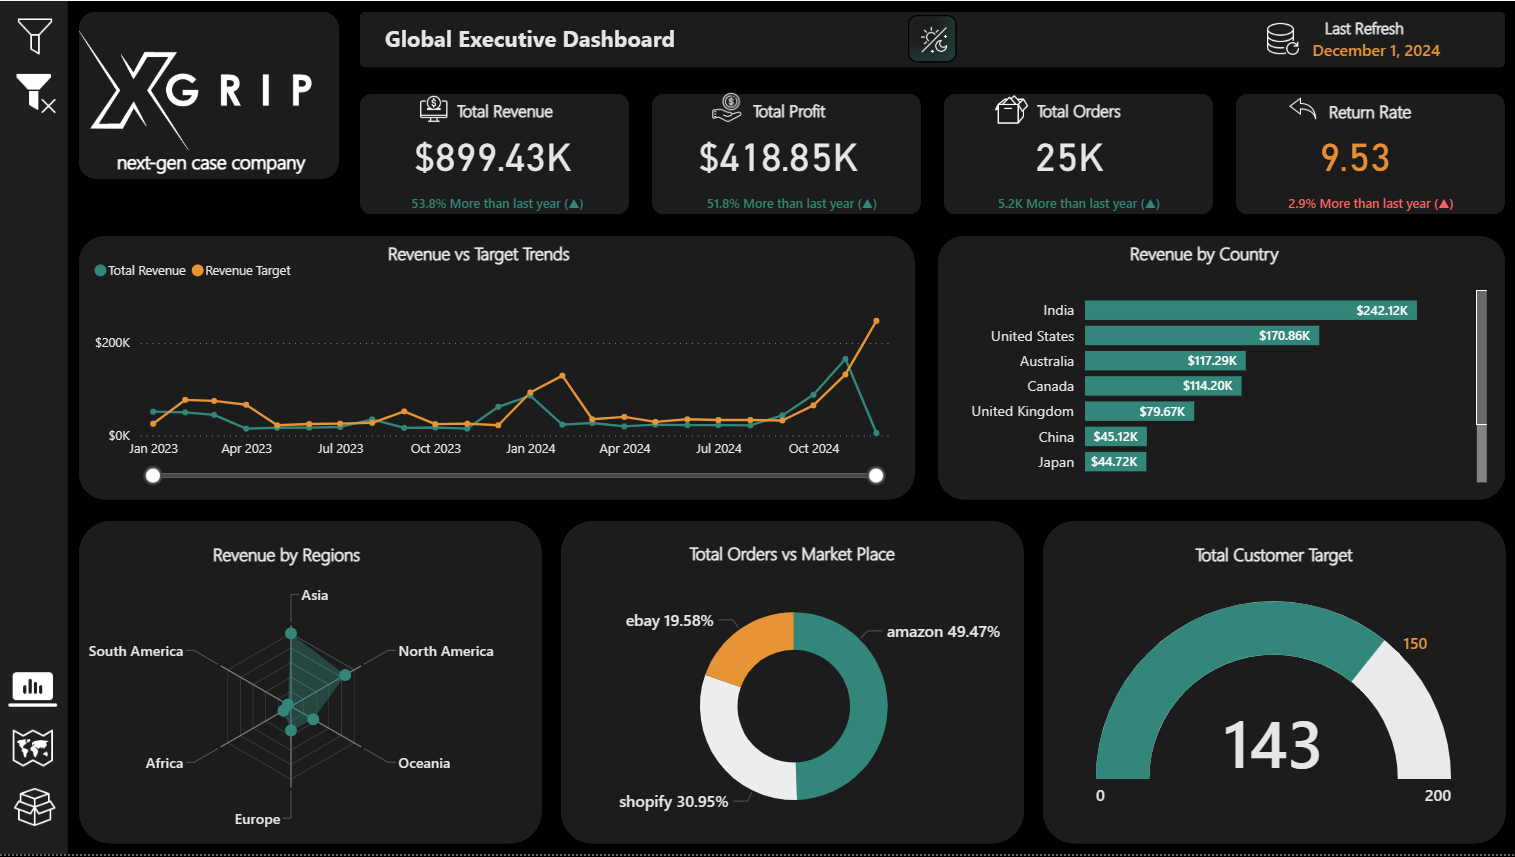

This screenshot's page, from the dashboard's own definition file:
{"tool":"powerbi","page":{"name":"Dark Executive Dashboard","canvas":[1280,720],"ordinal":3},"visuals":[{"type":"shape","title":"Heading shape","box":[295.3,0,984.7,65.2],"z":0},{"type":"shape","title":"KPI 1","box":[295.3,69,245.5,120],"z":0,"group":"g1"},{"type":"shape","title":"Logo shape","box":[58,188.6,723.6,240.8],"z":0,"group":"g2"},{"type":"image","title":"Map Chart","box":[5.4,605.6,47.1,49.8],"z":0,"group":"g3"},{"type":"shape","title":"Logo shpae","box":[58,0,237.7,159.1],"z":1000},{"type":"shape","title":"KPI 2","box":[541.7,69,245.5,120],"z":1000,"group":"g1"},{"type":"shape","title":"Logo shape","box":[783,188.6,497,240.7],"z":1000,"group":"g2"},{"type":"image","title":"Dashboard ceo","box":[0,553.1,57.9,52.5],"z":1000,"group":"g3"},{"type":"shape","title":"Filter shape","box":[0,0,58,720.1],"z":2000},{"type":"shape","title":"KPI 3","box":[788.1,69,245.5,120],"z":2000,"group":"g1"},{"type":"shape","title":"Logo shape","box":[58,429.4,409,290.7],"z":2000,"group":"g2"},{"type":"image","title":"Product Chart","box":[7.2,655.4,45.3,49.8],"z":2000,"group":"g3"},{"type":"group","id":"g1","title":"KPI","box":[295.3,69,984.7,120],"z":3000},{"type":"shape","title":"KPI 4","box":[1034.5,69,245.5,120],"z":3000,"group":"g1"},{"type":"shape","title":"Logo shape","box":[464.5,429.4,409,290.7],"z":3000,"group":"g2"},{"type":"group","id":"g2","title":"Chart","box":[58,188.6,1222,531.5],"z":4000},{"type":"shape","title":"Logo shape","box":[871.1,429.4,409,290.7],"z":4000,"group":"g2"},{"type":"textbox","box":[320.9,13.8,285.5,37.1],"z":5000},{"type":"card","fields":{"Values":["measures table.total revenue"]},"box":[333.8,99.2,164.7,60.4],"z":6000},{"type":"card","fields":{"Values":["measures table.total profit"]},"box":[576.2,99.2,162.2,59.5],"z":7000},{"type":"card","fields":{"Values":["measures table.total orders"]},"box":[817.7,99.2,170.8,59.5],"z":8000},{"type":"card","fields":{"Values":["measures table.return rate"]},"box":[1059.2,99.2,170.8,60.4],"z":9000},{"type":"barChart","fields":{"Category":["Country.country"],"Y":["measures table.total revenue"]},"box":[808.3,231.1,451.6,180.3],"z":10000},{"type":"RadarChart1446119667547","fields":{"Category":["Country.region"],"Y":["measures table.total revenue"]},"box":[41.2,485.2,410.4,219.6],"z":11000},{"type":"donutChart","fields":{"Category":["mrkt_place.platform_name"],"Y":["measures table.total orders"]},"box":[489,485.2,362.4,219.6],"z":12000},{"type":"gauge","fields":{"Y":["measures table.total customers"]},"box":[920.4,485.2,309.7,219.6],"z":13000},{"type":"lineChart","fields":{"Y":["measures table.total revenue","measures table.monthly rev target lc"],"Category":["date table.YEAR Hierarchy.YEAR","date table.YEAR Hierarchy.Quarter","date table.YEAR Hierarchy.Month Start Date"]},"box":[74.8,208.1,692.3,203.3],"z":14000},{"type":"textbox","box":[381.2,77.6,117.3,33.6],"z":15000},{"type":"textbox","box":[631.4,77.6,83.7,30.2],"z":16000},{"type":"textbox","box":[871.2,77.6,117.3,33.6],"z":17000},{"type":"textbox","box":[1117,77.6,88.8,33.6],"z":18000},{"type":"textbox","box":[323.5,197.5,175.1,33.6],"z":19000},{"type":"textbox","box":[949.6,197.5,163.9,33.6],"z":20000},{"type":"textbox","box":[175.1,451.1,142.3,33.6],"z":21000},{"type":"textbox","box":[569.8,450.9,199.4,33.4],"z":22000},{"type":"textbox","box":[999.7,451.1,151.8,33.6],"z":23000},{"type":"textbox","box":[1114,7.9,86.4,33.4],"z":24000},{"type":"card","fields":{"Values":["measures table.last refresh"]},"box":[1075.6,29.3,172.5,27.6],"z":25000},{"type":"group","id":"g3","title":"Page Nav Icons","box":[0,553.1,57.9,152.1],"z":26000},{"type":"card","fields":{"Values":["measures table.KPI Revenue"]},"box":[329.8,159.2,181.2,25.9],"z":30000},{"type":"card","fields":{"Values":["measures table.KPI Profit"]},"box":[579.1,159.2,180.3,25.9],"z":31000},{"type":"card","fields":{"Values":["measures table.KPI orders"]},"box":[820.7,159.2,180.3,25.9],"z":32000},{"type":"card","fields":{"Values":["measures table.KPI return_rate"]},"box":[1067.1,159.2,180.3,25.9],"z":33000},{"type":"textbox","box":[94.3,119.8,180.8,39.3],"z":34000},{"type":"image","box":[55,0,230.9,150.3],"z":35000},{"type":"image","box":[767.2,11.8,41.3,40.3],"z":36000},{"type":"image","box":[1059,13.8,49.1,37.3],"z":37000},{"type":"image","box":[343.8,73.7,46.2,35.4],"z":38000},{"type":"image","box":[588.4,71.7,52.1,36.3],"z":39000},{"type":"image","box":[1083.5,72.7,33.4,37.3],"z":40000},{"type":"image","box":[835,70.7,38.3,43.2],"z":41000},{"type":"image","title":"Filter icon DV","box":[5.7,8.2,49.1,43.4],"z":42000},{"type":"image","title":"Clear all filters btn DV","box":[6.6,56.3,48.9,43.5],"z":43000}]}

Visuals, with their boxes on the page's 1280x720 design canvas (x1, y1, x2, y2). These are canvas units, not pixel positions in the 1515x857 screenshot, which may show the page scaled, cropped or inside an application window:
"Heading shape" shape: {"x1": 295, "y1": 0, "x2": 1280, "y2": 65}
"KPI 1" shape: {"x1": 295, "y1": 69, "x2": 541, "y2": 189}
"Logo shape" shape: {"x1": 58, "y1": 189, "x2": 782, "y2": 429}
"Map Chart" image: {"x1": 5, "y1": 606, "x2": 52, "y2": 655}
"Logo shpae" shape: {"x1": 58, "y1": 0, "x2": 296, "y2": 159}
"KPI 2" shape: {"x1": 542, "y1": 69, "x2": 787, "y2": 189}
"Logo shape" shape: {"x1": 783, "y1": 189, "x2": 1280, "y2": 429}
"Dashboard ceo" image: {"x1": 0, "y1": 553, "x2": 58, "y2": 606}
"Filter shape" shape: {"x1": 0, "y1": 0, "x2": 58, "y2": 720}
"KPI 3" shape: {"x1": 788, "y1": 69, "x2": 1034, "y2": 189}
"Logo shape" shape: {"x1": 58, "y1": 429, "x2": 467, "y2": 720}
"Product Chart" image: {"x1": 7, "y1": 655, "x2": 52, "y2": 705}
"KPI" group: {"x1": 295, "y1": 69, "x2": 1280, "y2": 189}
"KPI 4" shape: {"x1": 1034, "y1": 69, "x2": 1280, "y2": 189}
"Logo shape" shape: {"x1": 464, "y1": 429, "x2": 874, "y2": 720}
"Chart" group: {"x1": 58, "y1": 189, "x2": 1280, "y2": 720}
"Logo shape" shape: {"x1": 871, "y1": 429, "x2": 1280, "y2": 720}
textbox: {"x1": 321, "y1": 14, "x2": 606, "y2": 51}
card - measures table.total revenue: {"x1": 334, "y1": 99, "x2": 498, "y2": 160}
card - measures table.total profit: {"x1": 576, "y1": 99, "x2": 738, "y2": 159}
card - measures table.total orders: {"x1": 818, "y1": 99, "x2": 988, "y2": 159}
card - measures table.return rate: {"x1": 1059, "y1": 99, "x2": 1230, "y2": 160}
barChart - Country.country x measures table.total revenue: {"x1": 808, "y1": 231, "x2": 1260, "y2": 411}
RadarChart1446119667547 - Country.region x measures table.total revenue: {"x1": 41, "y1": 485, "x2": 452, "y2": 705}
donutChart - mrkt_place.platform_name x measures table.total orders: {"x1": 489, "y1": 485, "x2": 851, "y2": 705}
gauge - measures table.total customers: {"x1": 920, "y1": 485, "x2": 1230, "y2": 705}
lineChart - measures table.total revenue x measures table.monthly rev target lc: {"x1": 75, "y1": 208, "x2": 767, "y2": 411}
textbox: {"x1": 381, "y1": 78, "x2": 498, "y2": 111}
textbox: {"x1": 631, "y1": 78, "x2": 715, "y2": 108}
textbox: {"x1": 871, "y1": 78, "x2": 988, "y2": 111}
textbox: {"x1": 1117, "y1": 78, "x2": 1206, "y2": 111}
textbox: {"x1": 324, "y1": 198, "x2": 499, "y2": 231}
textbox: {"x1": 950, "y1": 198, "x2": 1114, "y2": 231}
textbox: {"x1": 175, "y1": 451, "x2": 317, "y2": 485}
textbox: {"x1": 570, "y1": 451, "x2": 769, "y2": 484}
textbox: {"x1": 1000, "y1": 451, "x2": 1152, "y2": 485}
textbox: {"x1": 1114, "y1": 8, "x2": 1200, "y2": 41}
card - measures table.last refresh: {"x1": 1076, "y1": 29, "x2": 1248, "y2": 57}
"Page Nav Icons" group: {"x1": 0, "y1": 553, "x2": 58, "y2": 705}
card - measures table.KPI Revenue: {"x1": 330, "y1": 159, "x2": 511, "y2": 185}
card - measures table.KPI Profit: {"x1": 579, "y1": 159, "x2": 759, "y2": 185}
card - measures table.KPI orders: {"x1": 821, "y1": 159, "x2": 1001, "y2": 185}
card - measures table.KPI return_rate: {"x1": 1067, "y1": 159, "x2": 1247, "y2": 185}
textbox: {"x1": 94, "y1": 120, "x2": 275, "y2": 159}
image: {"x1": 55, "y1": 0, "x2": 286, "y2": 150}
image: {"x1": 767, "y1": 12, "x2": 808, "y2": 52}
image: {"x1": 1059, "y1": 14, "x2": 1108, "y2": 51}
image: {"x1": 344, "y1": 74, "x2": 390, "y2": 109}
image: {"x1": 588, "y1": 72, "x2": 640, "y2": 108}
image: {"x1": 1084, "y1": 73, "x2": 1117, "y2": 110}
image: {"x1": 835, "y1": 71, "x2": 873, "y2": 114}
"Filter icon DV" image: {"x1": 6, "y1": 8, "x2": 55, "y2": 52}
"Clear all filters btn DV" image: {"x1": 7, "y1": 56, "x2": 56, "y2": 100}
